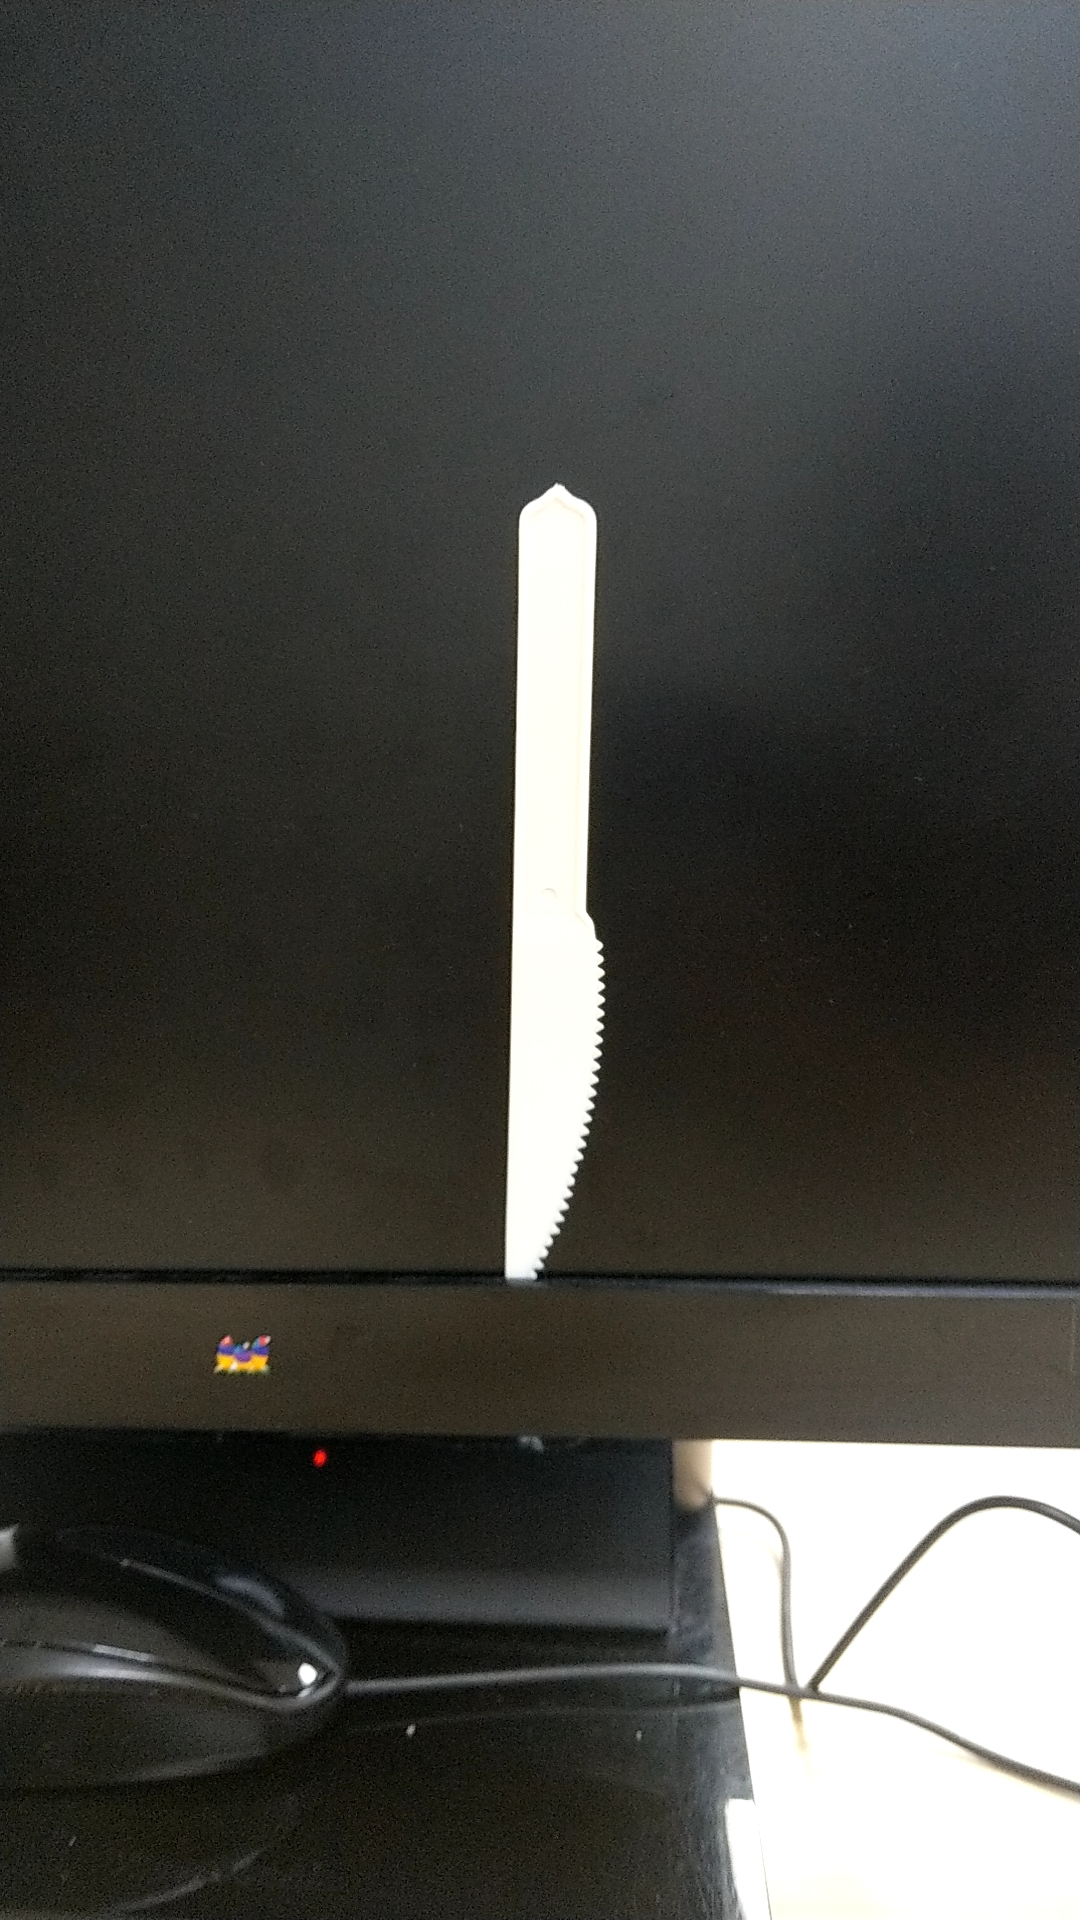knife: (477, 475, 622, 1286)
